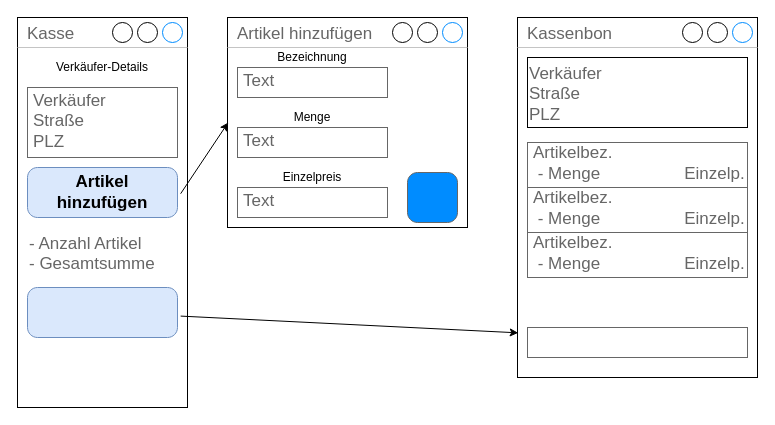
Image size: 775x425. Some labels were removed from this diagram. The shapes that lost their labels are listed below. From the top down, each one's centre as x and y in pixels, then its label:
[432,197]: OK
[102,312]: Kassenbon anzeigen
[637,342]: Summe Gesamt
